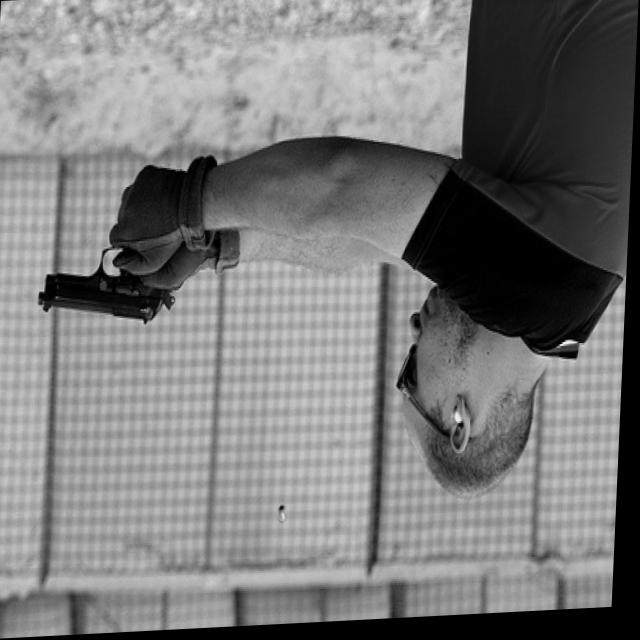handgun: (38, 240, 182, 345)
